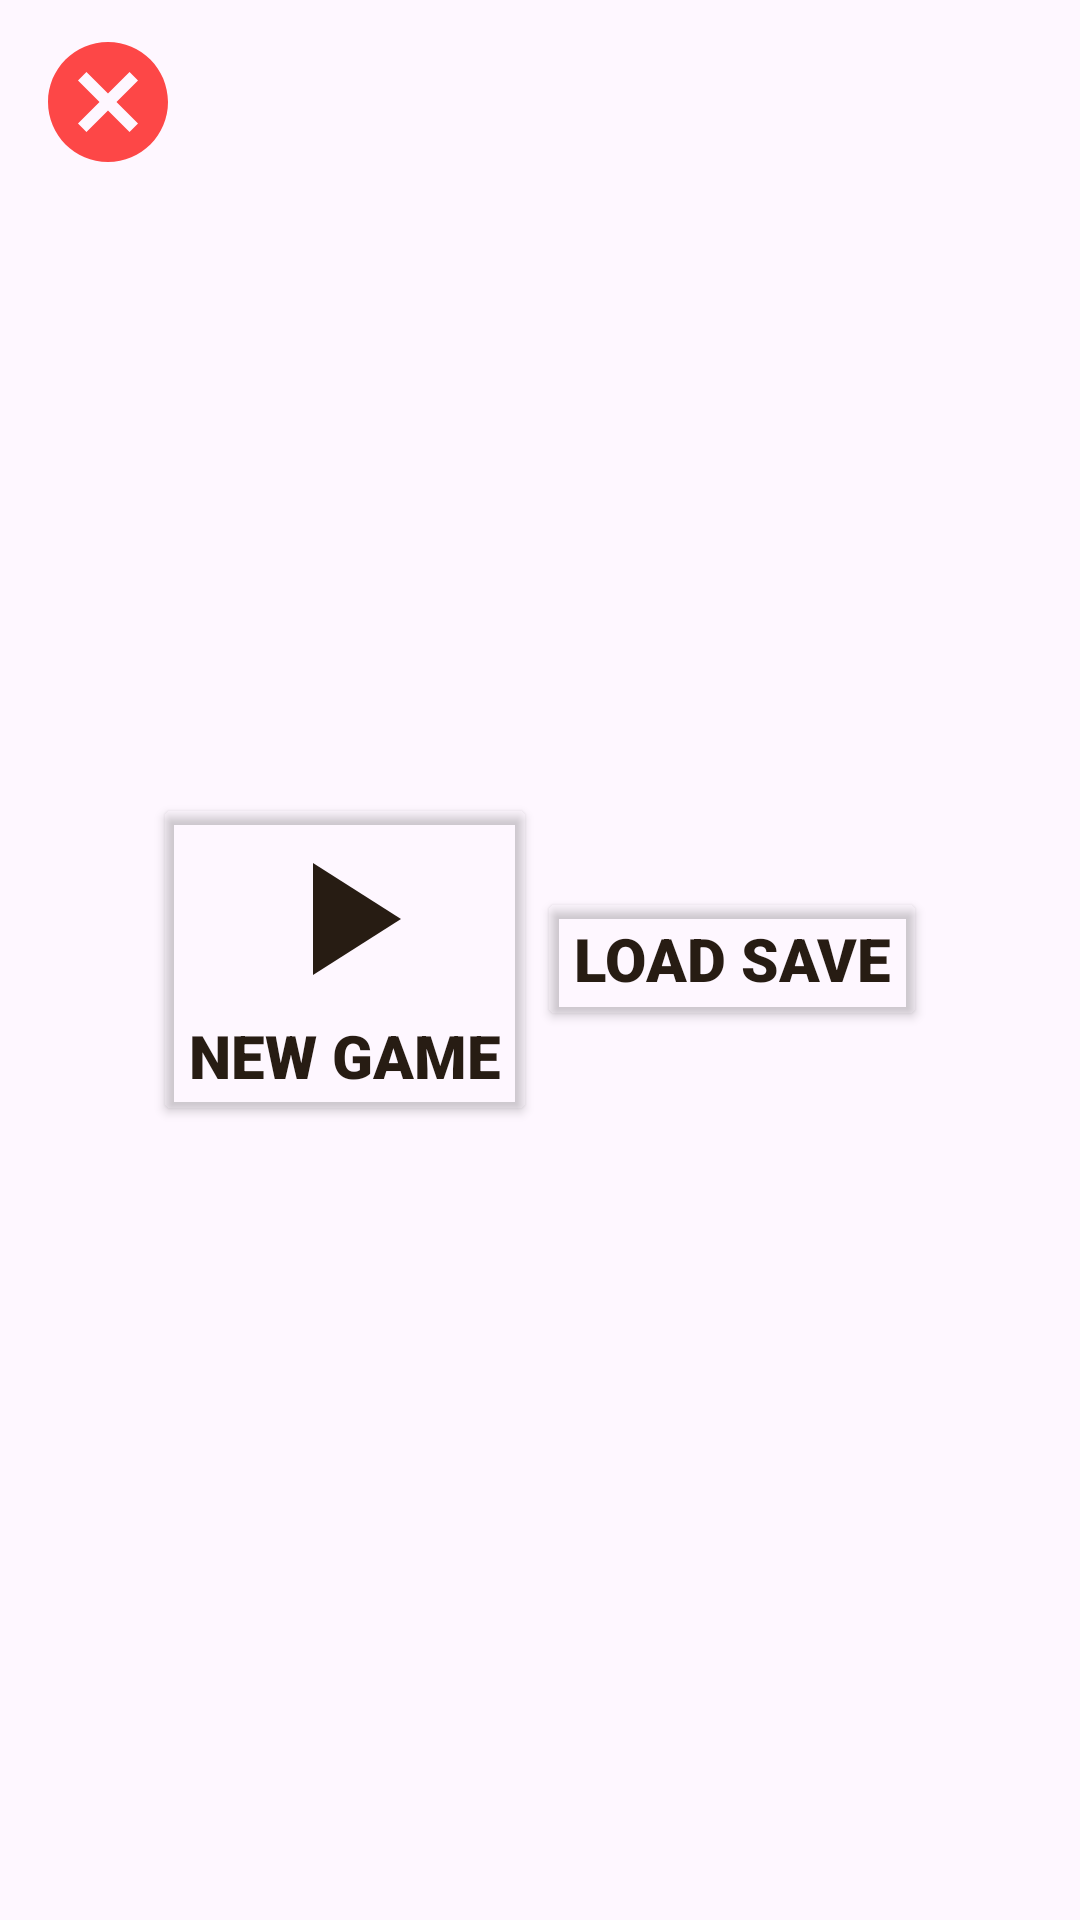

Point at icon controls on the screen. Image size 1080px x 1920px, points as (x,y).
cancel: (108,102)
